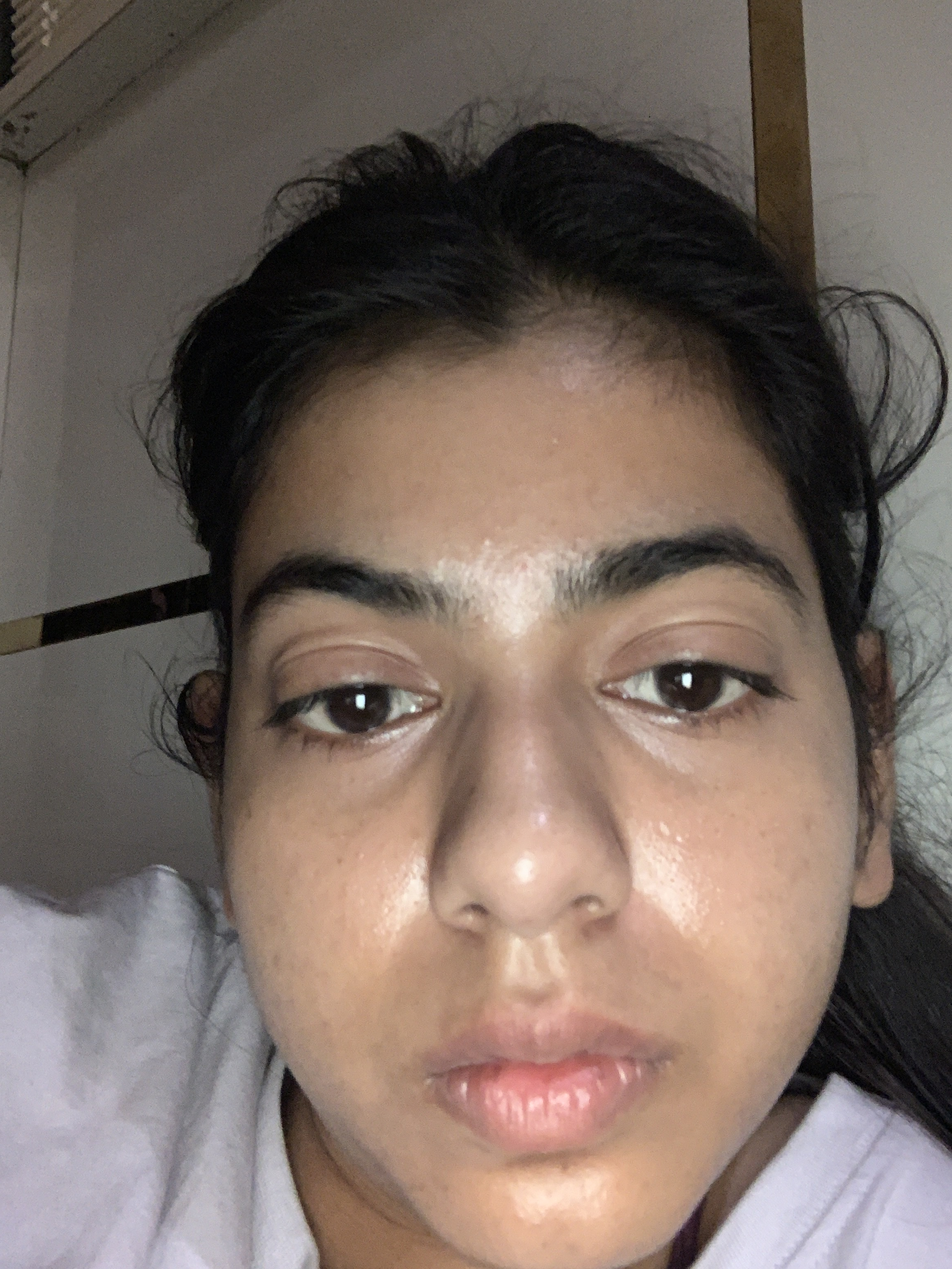closed_comedone: (341, 882, 363, 896), (495, 523, 502, 532), (358, 852, 365, 861)
open_comedone: (478, 778, 575, 826)
pustule: (481, 537, 493, 545), (552, 438, 559, 445)
